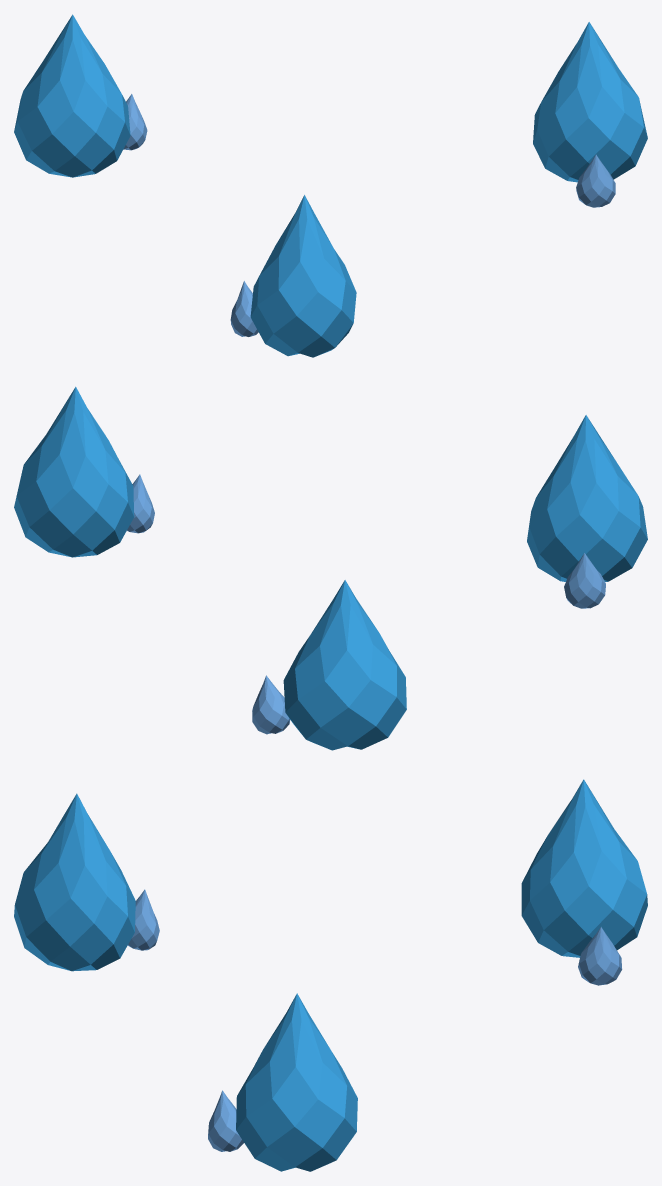
File: Water_Power.fbx
3 renders of one model, top to bottom at view 1: azimuth 30°, elevation 25°; view 2: azimuth 150°, elevation 25°; view 3: azimuth 270°, elevation 25°, orthographic. The views are drawn at different scales.
Visible parts, largest first — view 1: 球体.001; view 2: 球体.001; view 3: 球体.001.
Part boxes in pixels (x1=…): 球体.001: x1=14, y1=14, x2=647, y2=357; 球体.001: x1=14, y1=386, x2=647, y2=750; 球体.001: x1=14, y1=779, x2=647, y2=1171.
Bounding box in the file's own units: 945 × 307 × 964.
